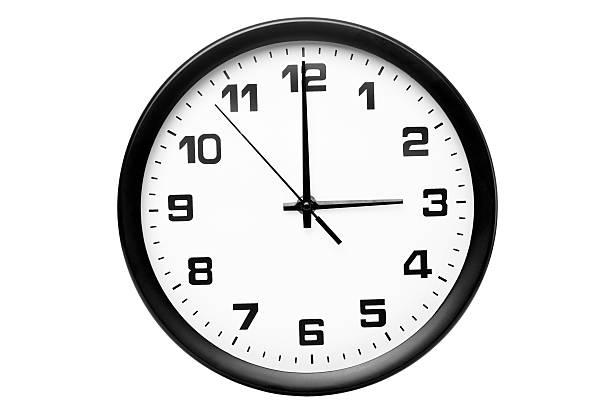clock: (100, 4, 510, 408)
